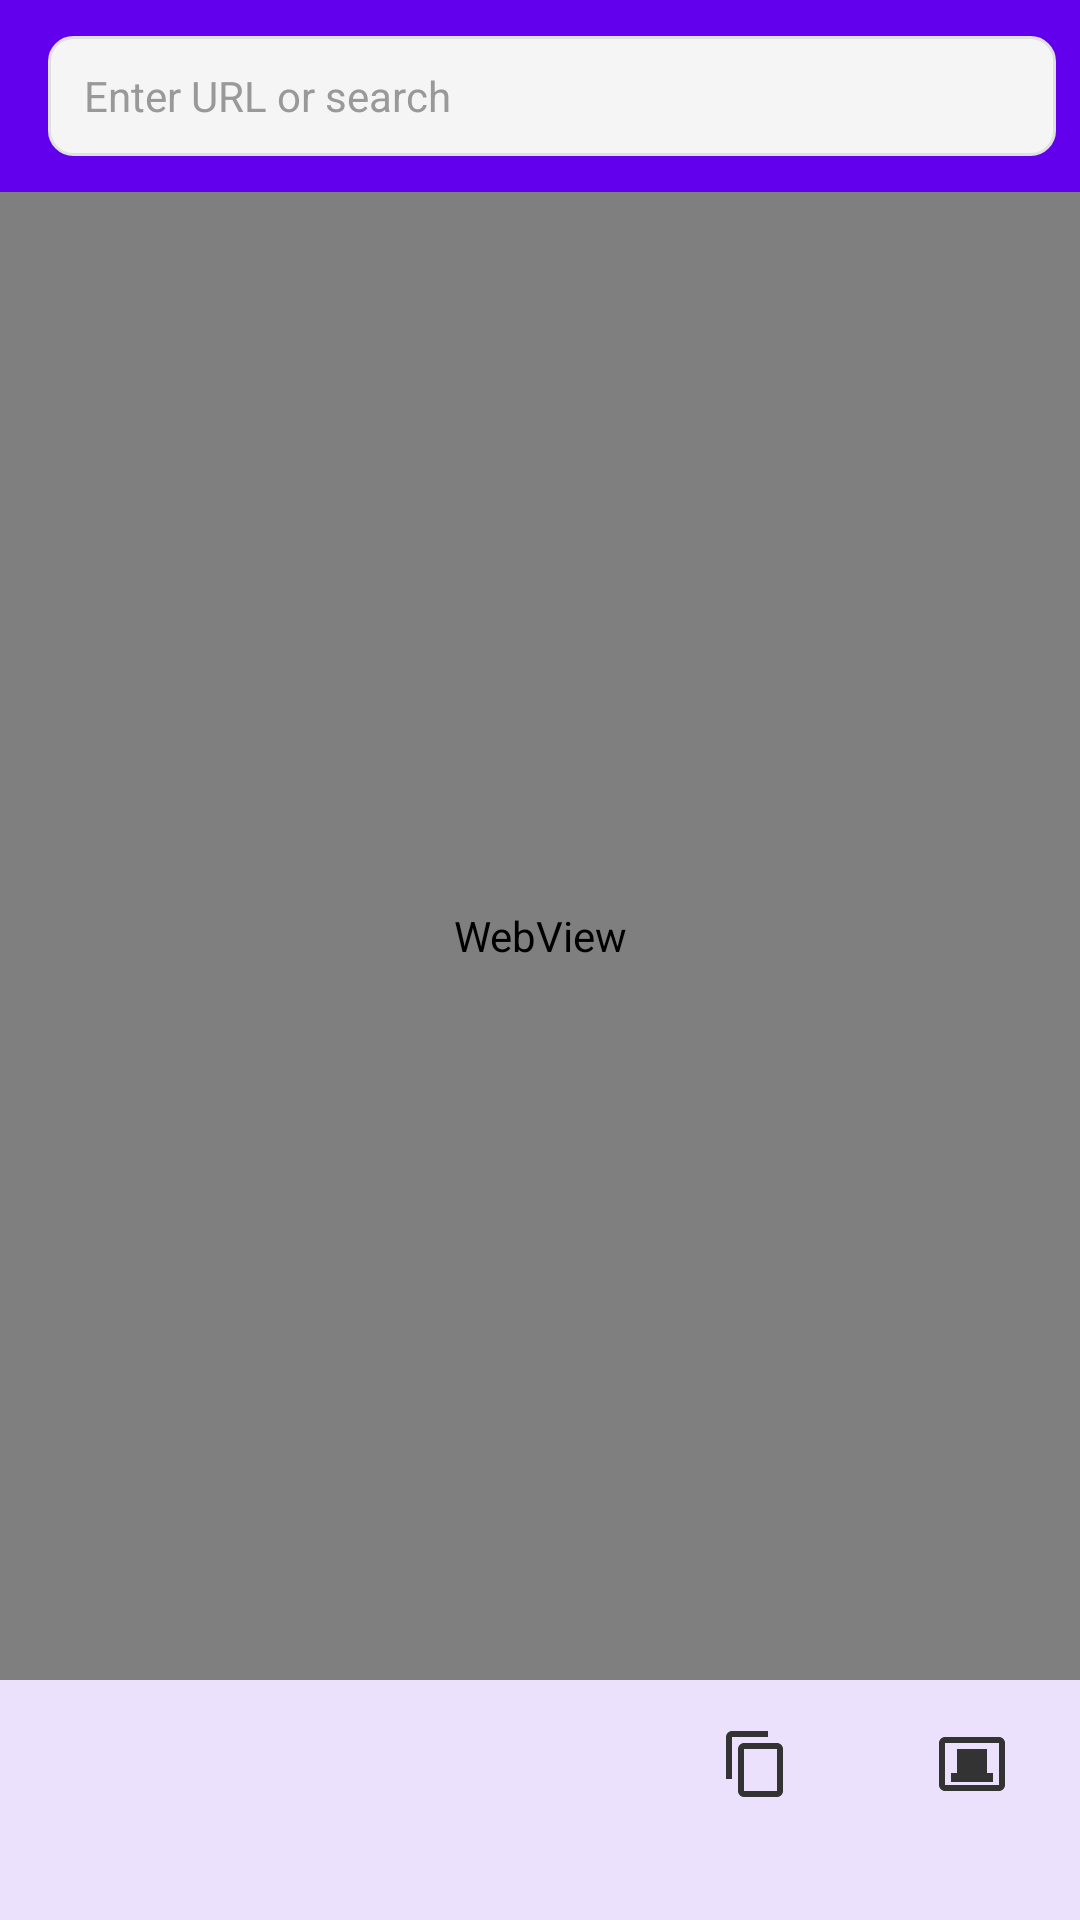

Icon bounding boxes for this 1080*1920 phone screenshot, format rect(x1, y1, x2, y2):
Copy selected text: rect(726, 1731, 783, 1797)
